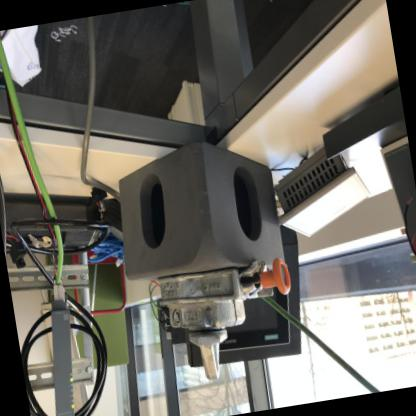CornerCasting: (106, 128, 286, 288)
Twistlock: (151, 249, 303, 390)
